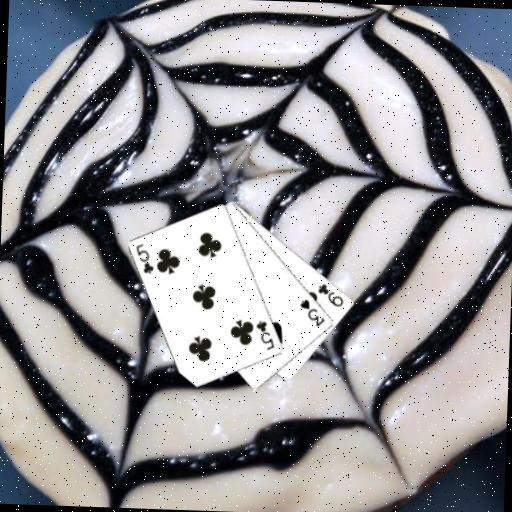3S: (296, 295, 327, 328)
5C: (132, 240, 157, 275), (252, 318, 277, 352)
9C: (314, 279, 345, 308)
